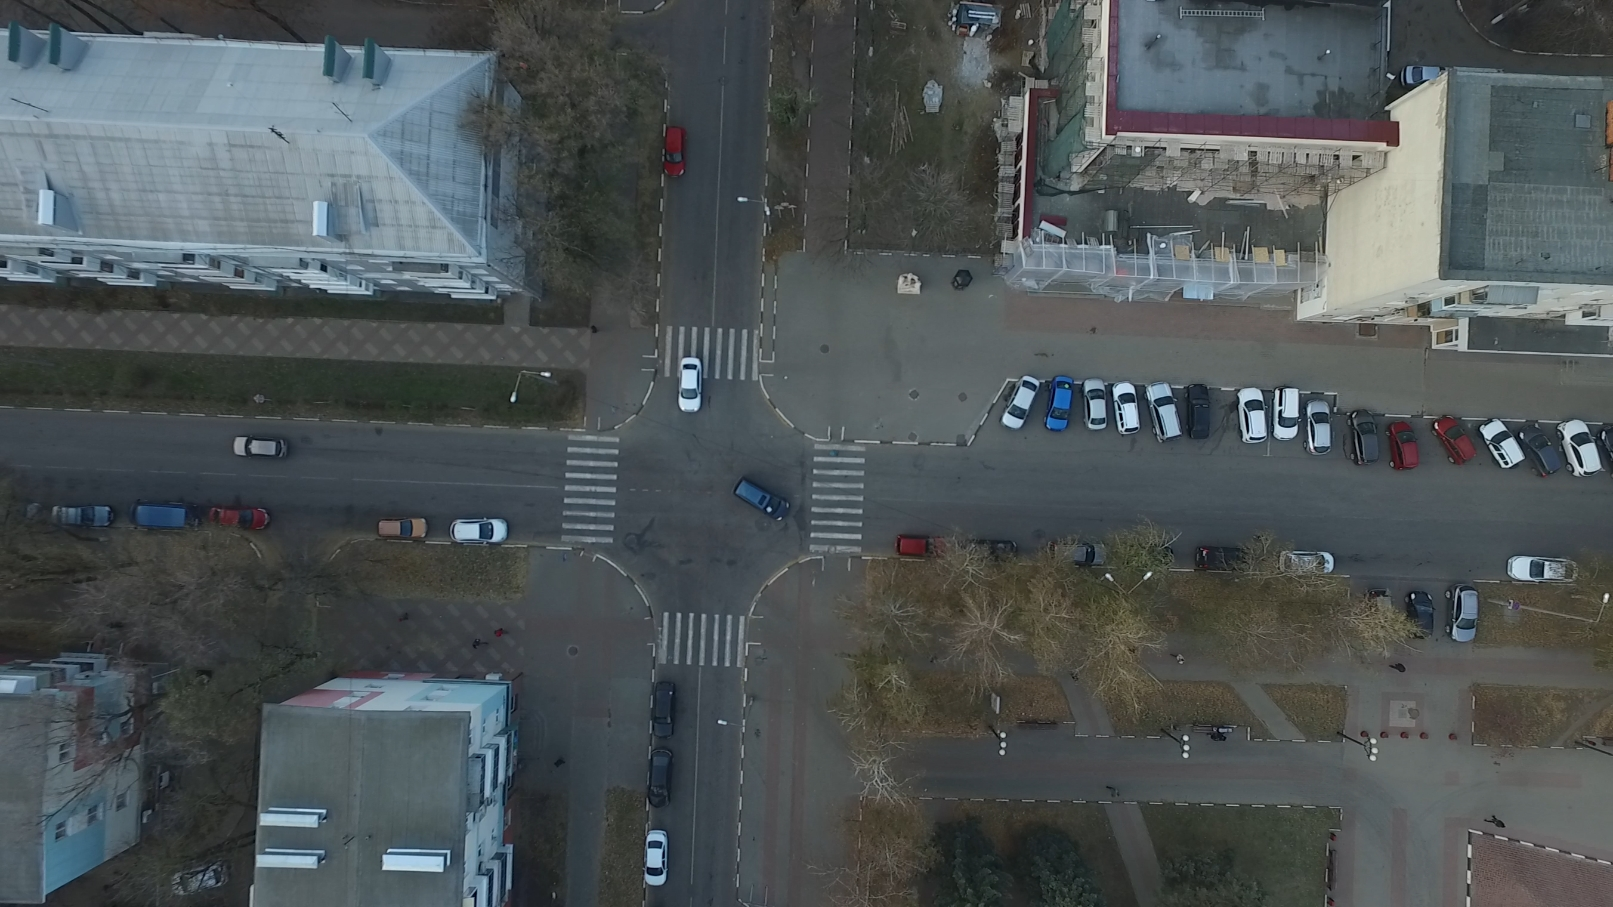car: (727, 476, 791, 524), (1480, 418, 1525, 472), (1560, 422, 1600, 480), (1513, 418, 1552, 475), (1504, 555, 1580, 584), (1231, 386, 1268, 444), (1345, 409, 1380, 470), (1434, 416, 1475, 468), (1144, 384, 1180, 443), (1445, 586, 1479, 645), (1386, 418, 1422, 472), (448, 517, 508, 549), (1303, 398, 1336, 456), (1001, 375, 1036, 429), (1276, 549, 1334, 580), (136, 505, 199, 532), (1183, 382, 1213, 437), (1054, 542, 1114, 568), (1044, 378, 1076, 427), (53, 502, 113, 528), (1273, 386, 1302, 439), (210, 507, 269, 533), (643, 829, 667, 890), (1123, 544, 1179, 570), (1196, 545, 1252, 571), (227, 436, 290, 460), (1081, 382, 1110, 433), (648, 748, 671, 810), (1114, 380, 1140, 436), (676, 359, 700, 413), (653, 680, 676, 736), (895, 537, 946, 563), (1409, 592, 1434, 645), (373, 517, 427, 540), (969, 537, 1019, 561), (1367, 587, 1393, 633), (661, 128, 686, 175), (1602, 419, 1613, 474)
